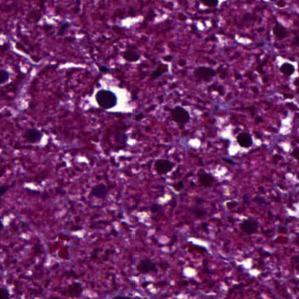inflammation: (86, 82, 136, 115), (223, 125, 263, 159)
